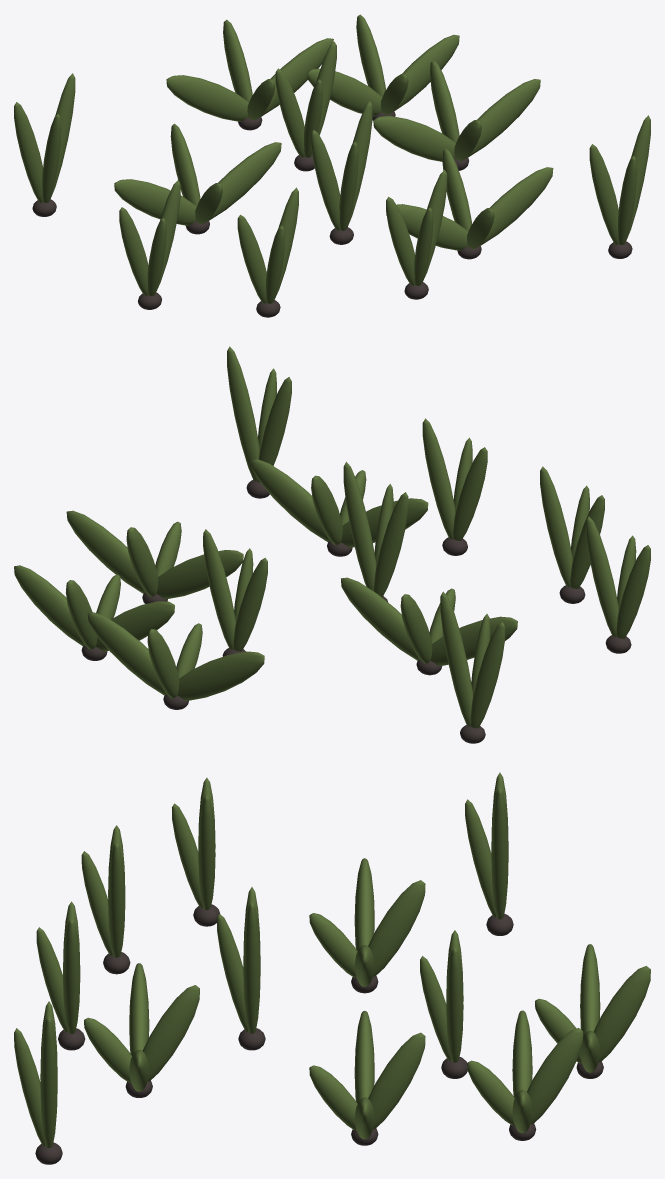
File: CMU3DRMCGrassa1.glb
3 renders of one model, top to bottom at view 1: azimuth 30°, elevation 25°; view 2: azimuth 150°, elevation 25°; view 3: azimuth 270°, elevation 25°, orthographic. The views are drawn at different scales.
Visible parts, largest first — view 1: tuft 8 continuous leaf 0, tuft 1 continuous leaf 0, tuft 10 continuous leaf 1, tuft 5 continuous leaf 1, tuft 1 continuous leaf 1, tuft 10 continuous leaf 0, tuft 9 continuous leaf 0, tuft 9 continuous leaf 1, tuft 7 continuous leaf 0, tuft 11 continuous leaf 0, tuft 2 continuous leaf 0, tuft 8 continuous leaf 1 (+29 smaller); view 2: tuft 8 continuous leaf 0, tuft 5 continuous leaf 1, tuft 8 continuous leaf 1, tuft 1 continuous leaf 1, tuft 10 continuous leaf 1, tuft 7 continuous leaf 1, tuft 1 continuous leaf 0, tuft 2 continuous leaf 1, tuft 11 continuous leaf 1, tuft 9 continuous leaf 1, tuft 6 continuous leaf 1, tuft 3 continuous leaf 1 (+27 smaller); view 3: tuft 10 continuous leaf 2, tuft 5 continuous leaf 2, tuft 1 continuous leaf 2, tuft 8 continuous leaf 2, tuft 9 continuous leaf 2, tuft 11 continuous leaf 1, tuft 7 continuous leaf 1, tuft 2 continuous leaf 1, tuft 3 continuous leaf 1, tuft 0 continuous leaf 1, tuft 4 continuous leaf 1, tuft 6 continuous leaf 1 (+22 smaller).
Boxes of the visible parts, x1,y1,x2,y2 form: tuft 8 continuous leaf 0: [166, 75, 248, 121]; tuft 1 continuous leaf 0: [373, 116, 455, 161]; tuft 10 continuous leaf 1: [208, 142, 281, 220]; tuft 5 continuous leaf 1: [480, 167, 553, 245]; tuft 1 continuous leaf 1: [468, 79, 540, 157]; tuft 10 continuous leaf 0: [114, 179, 196, 225]; tuft 9 continuous leaf 0: [307, 68, 382, 116]; tuft 9 continuous leaf 1: [394, 34, 459, 111]; tuft 7 continuous leaf 0: [14, 102, 43, 202]; tuft 11 continuous leaf 0: [589, 144, 618, 244]; tuft 2 continuous leaf 0: [311, 130, 340, 230]; tuft 8 continuous leaf 1: [261, 38, 333, 116]; tuft 8 continuous leaf 0: [177, 651, 264, 700]; tuft 5 continuous leaf 1: [251, 459, 329, 541]; tuft 8 continuous leaf 1: [87, 612, 166, 695]; tuft 1 continuous leaf 1: [66, 510, 145, 593]; tuft 10 continuous leaf 1: [341, 577, 419, 660]; tuft 7 continuous leaf 1: [440, 591, 472, 726]; tuft 1 continuous leaf 0: [156, 550, 243, 599]; tuft 2 continuous leaf 1: [343, 461, 376, 591]; tuft 11 continuous leaf 1: [227, 346, 259, 481]; tuft 9 continuous leaf 1: [14, 565, 84, 645]; tuft 6 continuous leaf 1: [422, 418, 455, 538]; tuft 3 continuous leaf 1: [586, 516, 618, 636]; tuft 10 continuous leaf 2: [368, 880, 425, 976]; tuft 5 continuous leaf 2: [142, 985, 199, 1081]; tuft 1 continuous leaf 2: [368, 1032, 425, 1128]; tuft 8 continuous leaf 2: [593, 966, 650, 1062]; tuft 9 continuous leaf 2: [527, 1028, 583, 1124]; tuft 11 continuous leaf 1: [40, 1016, 57, 1147]; tuft 7 continuous leaf 1: [491, 787, 508, 919]; tuft 2 continuous leaf 1: [243, 902, 260, 1033]; tuft 3 continuous leaf 1: [198, 794, 215, 909]; tuft 0 continuous leaf 1: [446, 947, 463, 1062]; tuft 4 continuous leaf 1: [108, 842, 125, 957]; tuft 6 continuous leaf 1: [63, 918, 80, 1033].
Bounding box in the file's own units: 0.9389 × 0.2506 × 0.8829.
